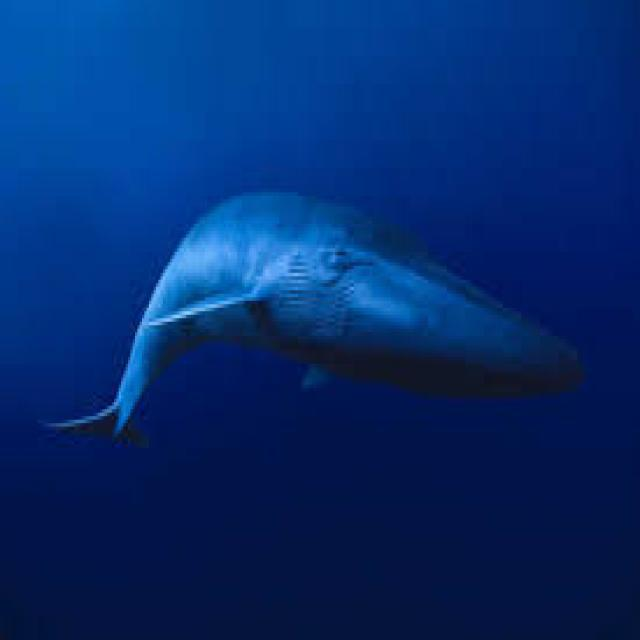blue_whale: (44, 160, 626, 480)
